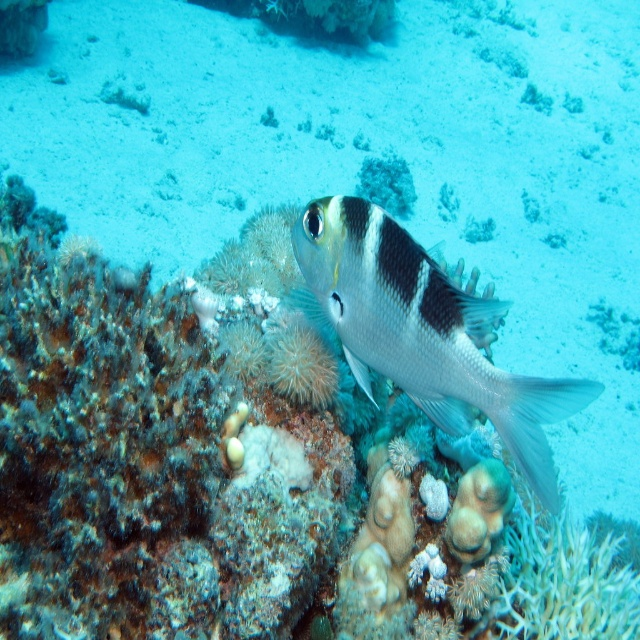Fish: (290, 192, 602, 522)
